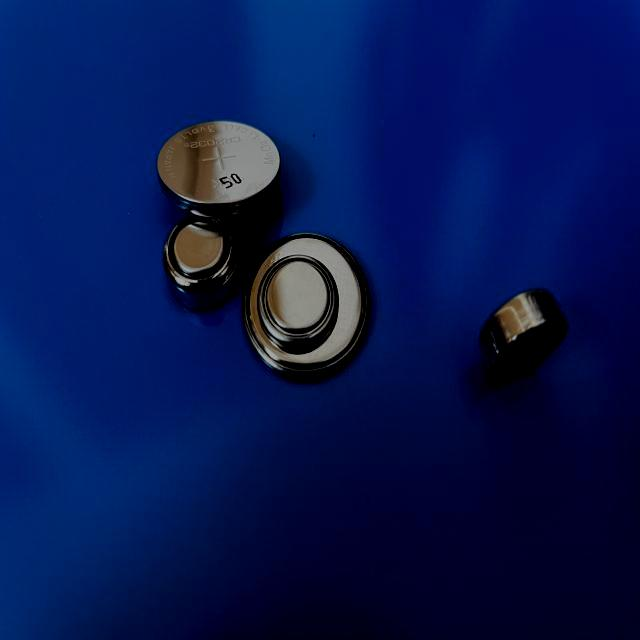COIN: (241, 234, 372, 386), (152, 117, 282, 220), (476, 285, 568, 387), (255, 255, 342, 351), (162, 214, 244, 314)
